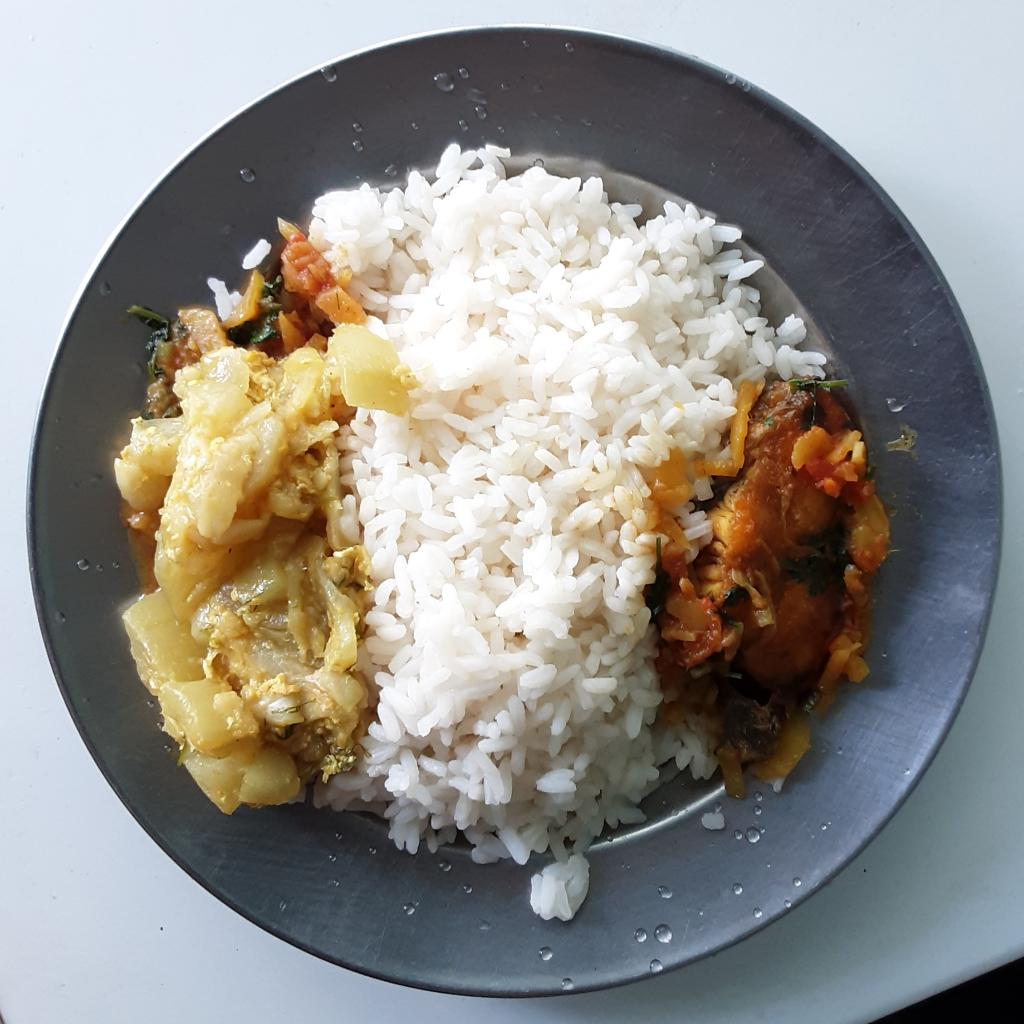fish: (653, 382, 889, 800)
lau: (112, 209, 412, 814)
rice: (306, 131, 820, 918)
